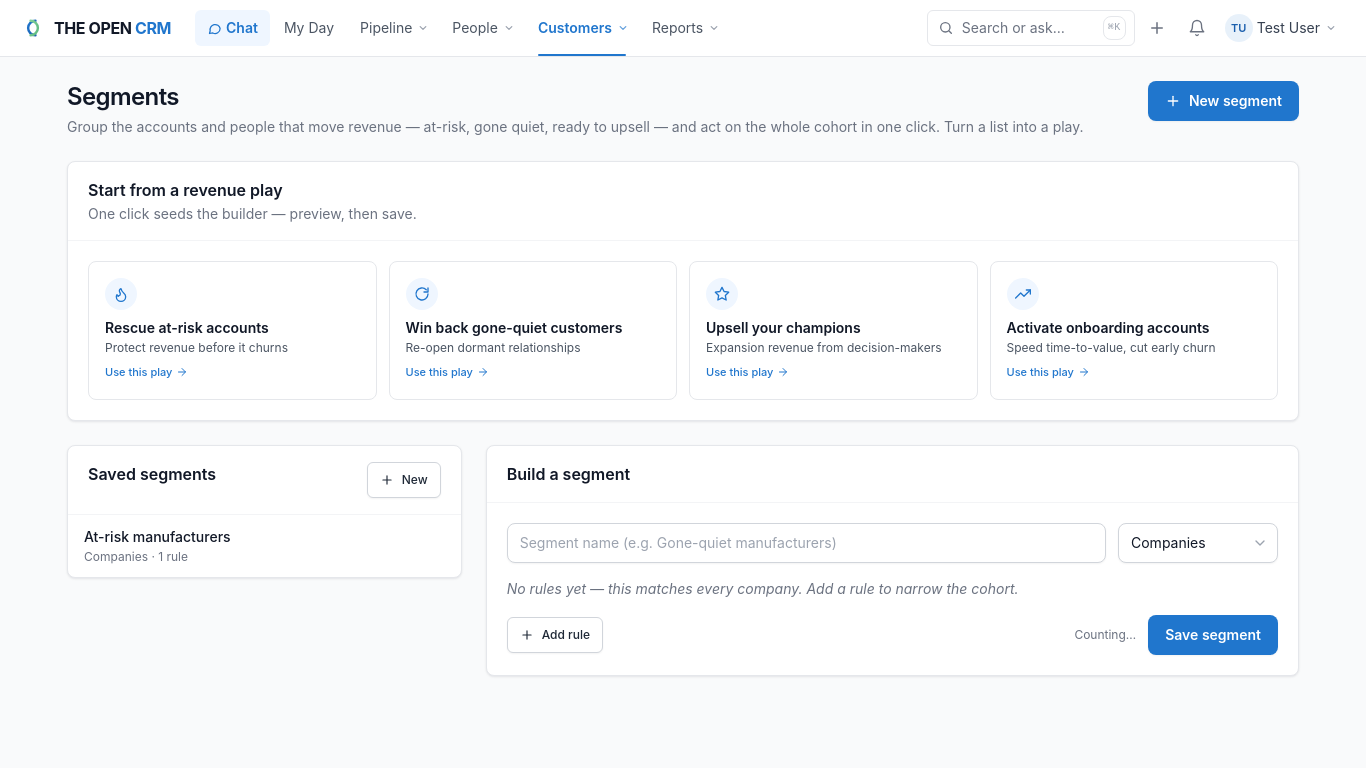
Scenario: Segments › lets the user cancel the confirm dialog without writing
The image size is (1366, 768).
Click the text "At-risk manufacturers".
click(157, 536)  # box [84, 528, 231, 544]
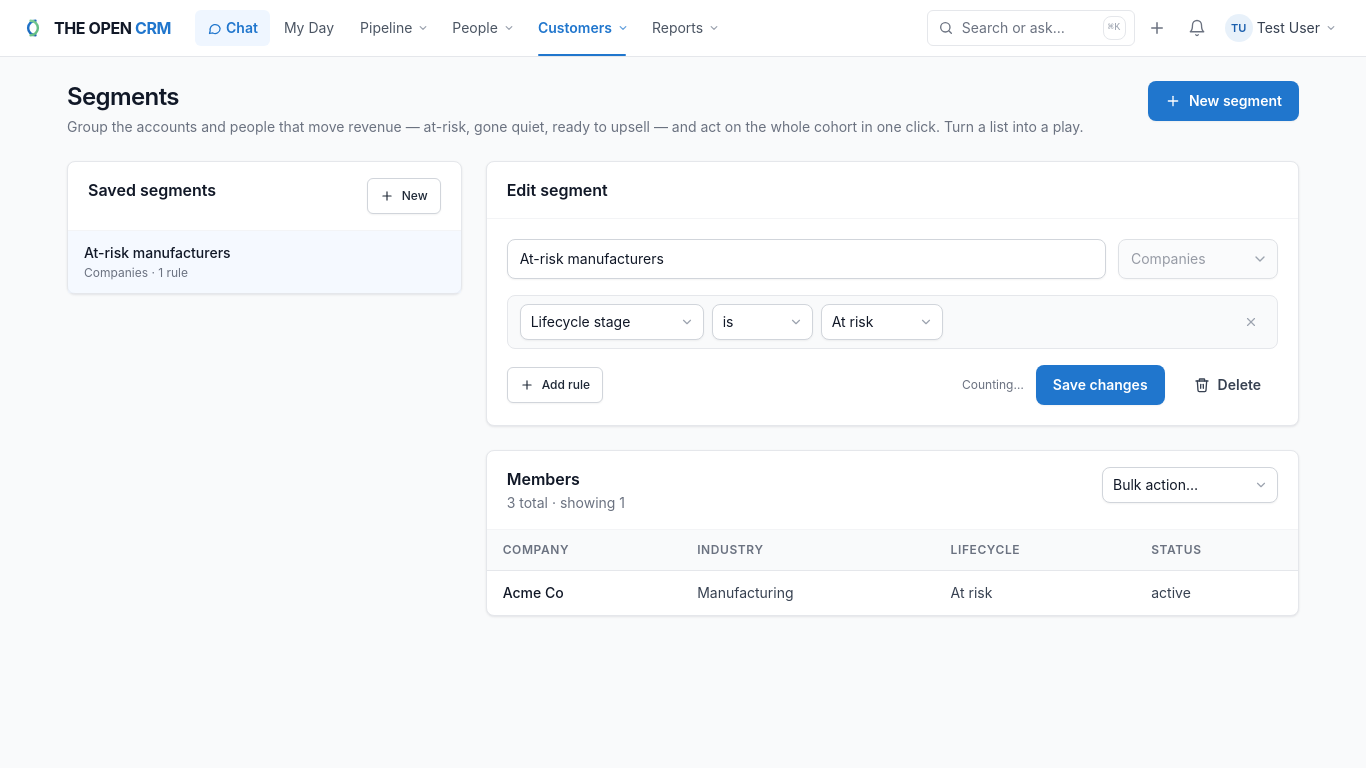
Now the text "Acme Co" is shown, box [487, 570, 681, 615]
Select "Set lifecycle stage" in the dropdown named "Bulk action" at (1190, 485), box [1102, 467, 1278, 503]
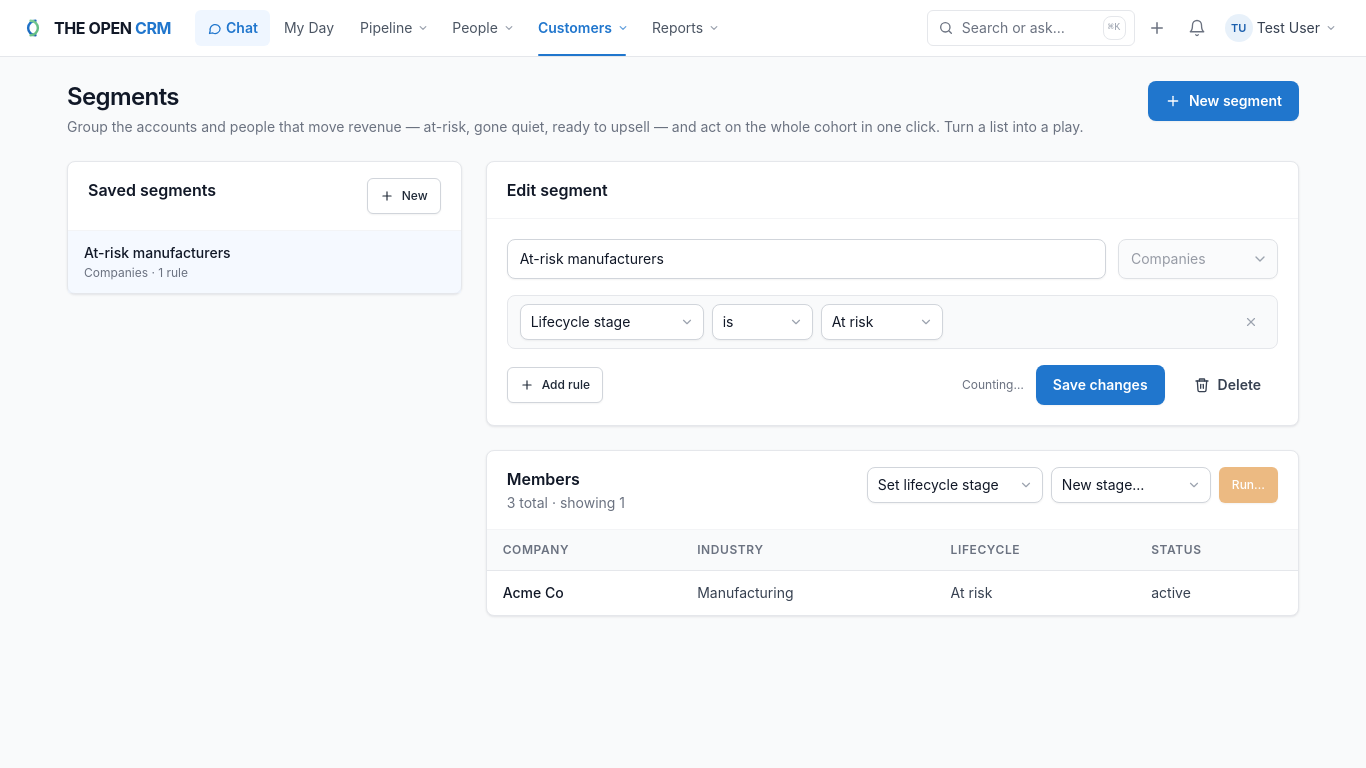
Select "Active" in the dropdown named "New lifecycle stage" at (1131, 485), box [1051, 467, 1211, 503]
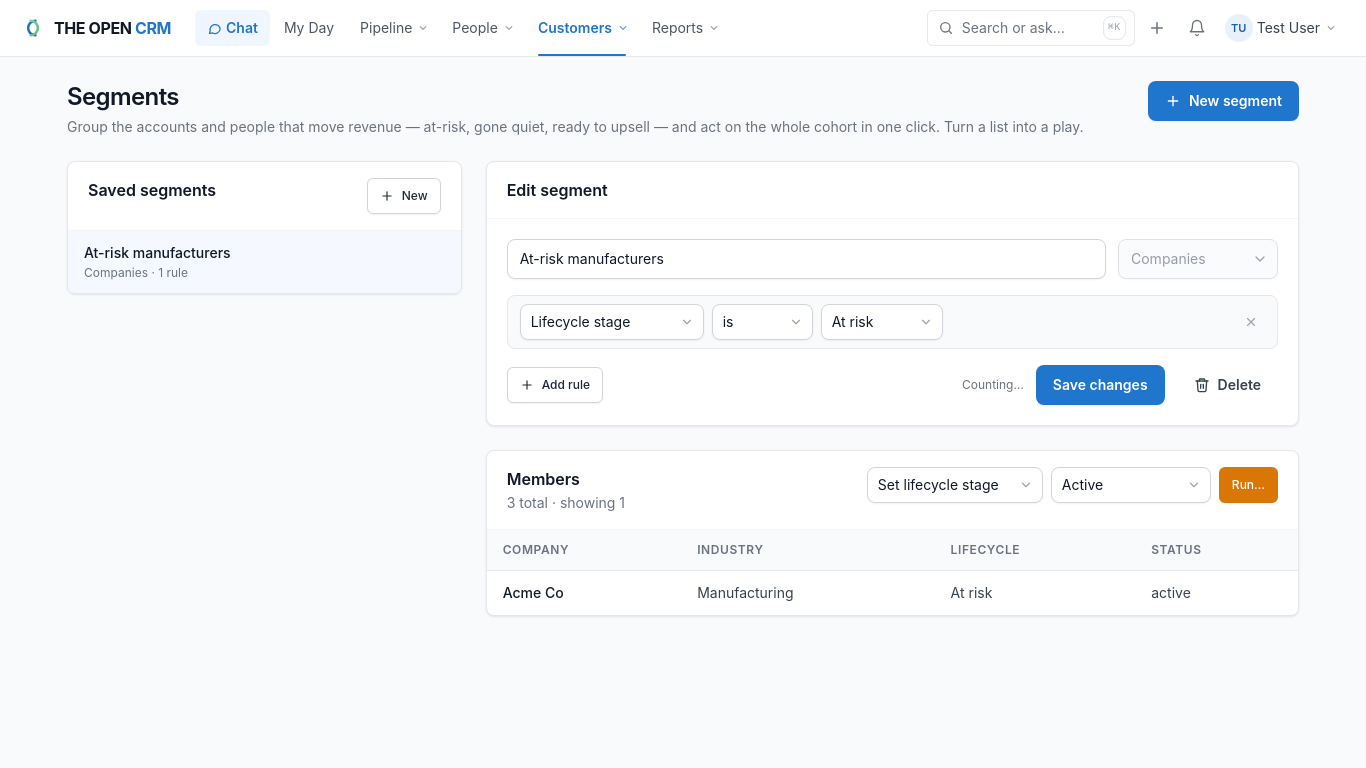
Click the button "Run…".
click(1248, 485)  # box [1219, 467, 1278, 503]
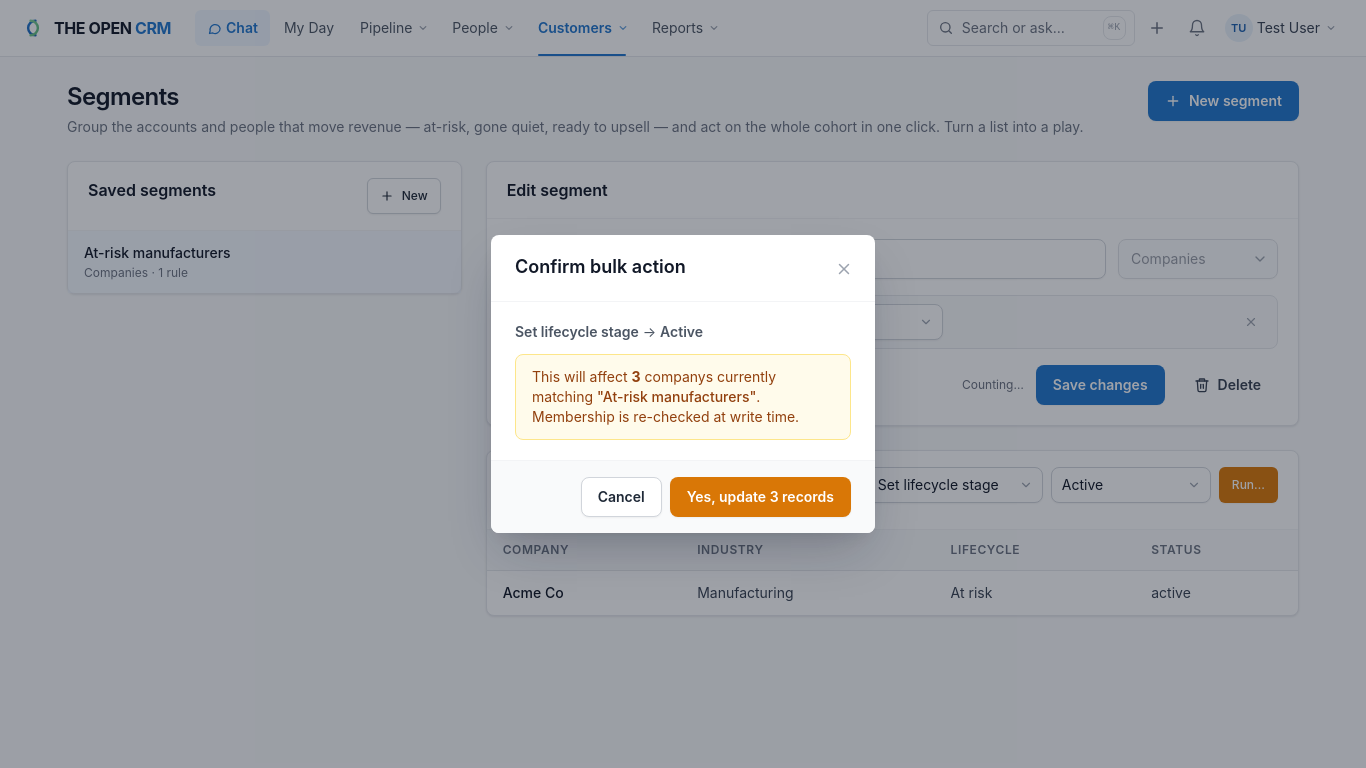
Now the heading "Confirm bulk action" is shown, box [515, 255, 686, 279]
Click the button "Cancel".
click(621, 497)  # box [581, 477, 662, 517]
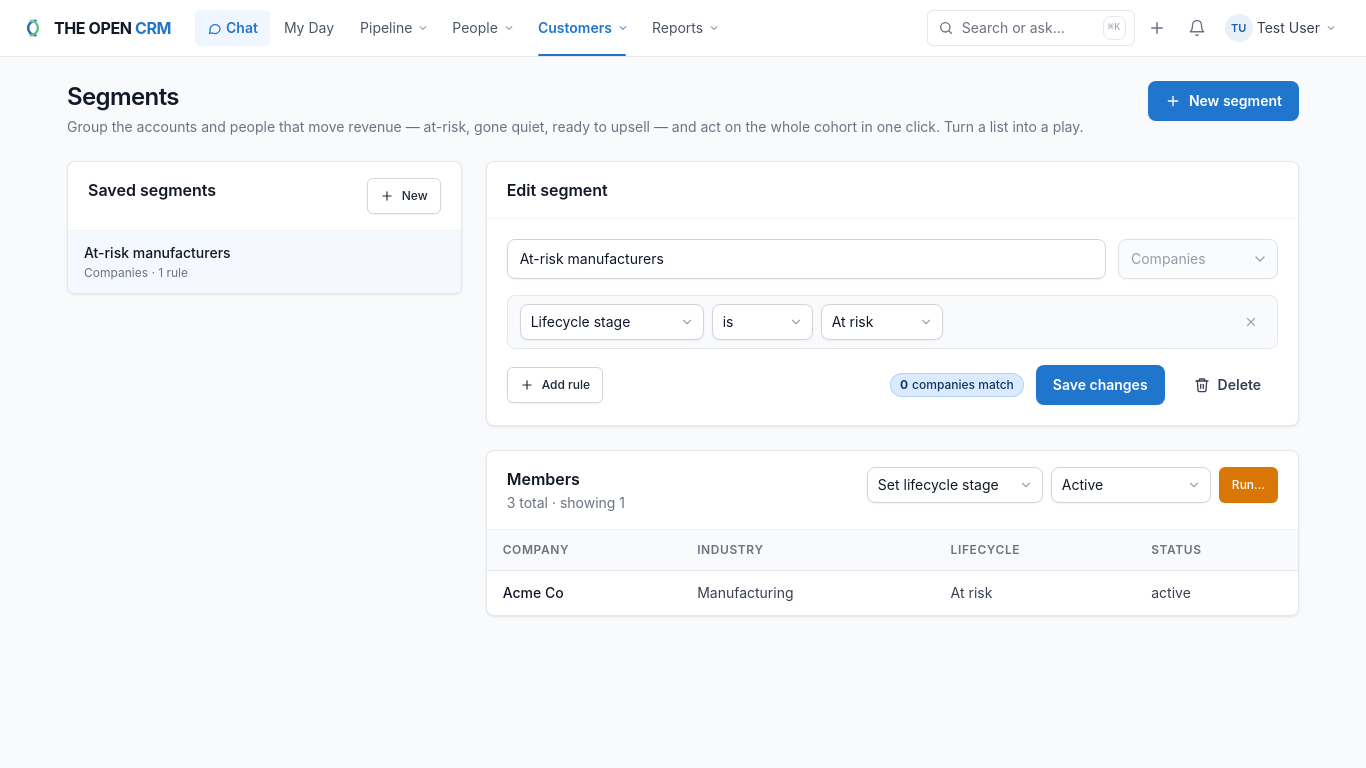
Now the heading "Confirm bulk action" is gone
